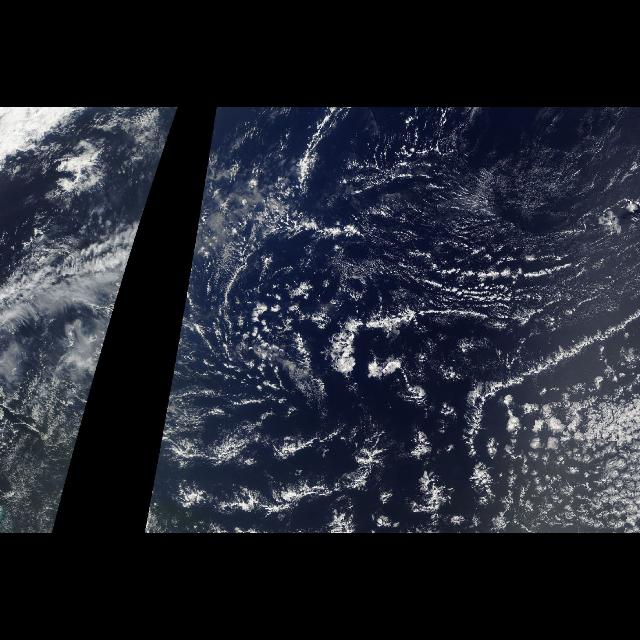Flower: (200, 346, 638, 532)
Sugar: (412, 107, 640, 260)
